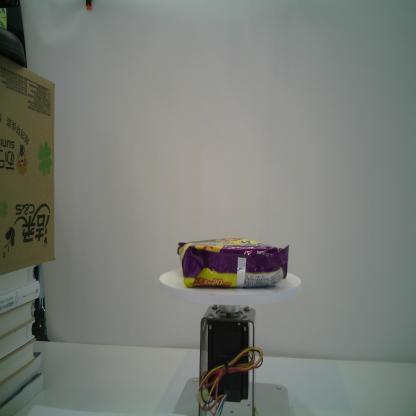Instant Noodles: (176, 236, 290, 292)
